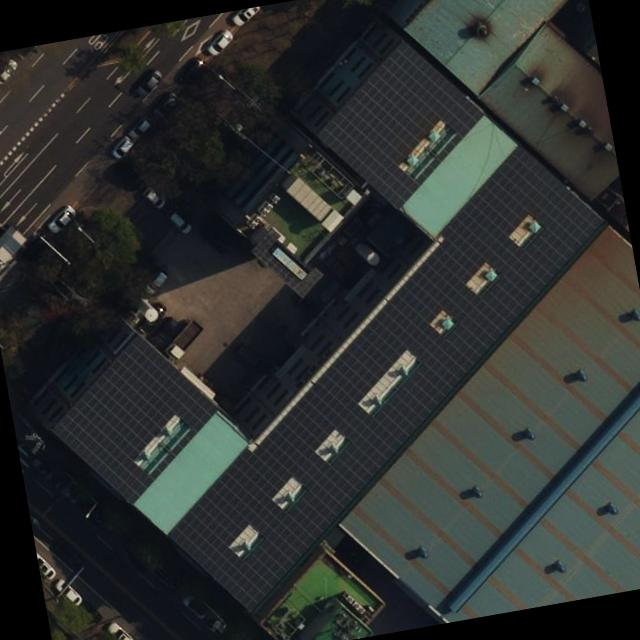solar: (107, 130, 640, 627), (29, 316, 238, 520), (299, 23, 502, 221)
